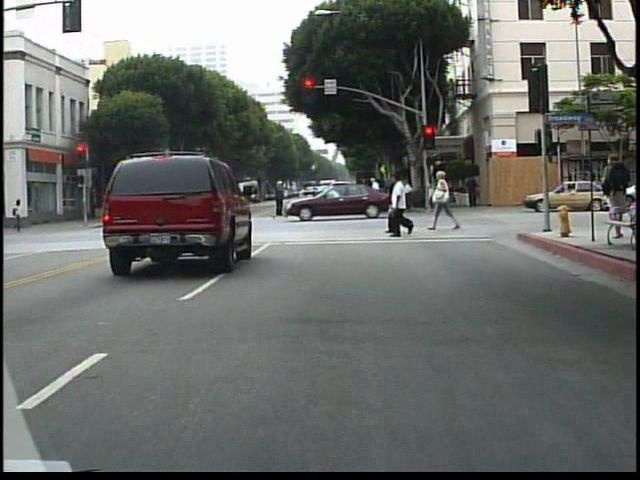person: (386, 173, 422, 245), (431, 171, 464, 234), (598, 148, 630, 208), (387, 175, 404, 236), (366, 174, 388, 218), (465, 167, 485, 214), (145, 188, 161, 232), (273, 177, 288, 221), (124, 191, 140, 232), (399, 176, 416, 213), (11, 199, 27, 234), (352, 178, 369, 209), (2, 200, 16, 235)
